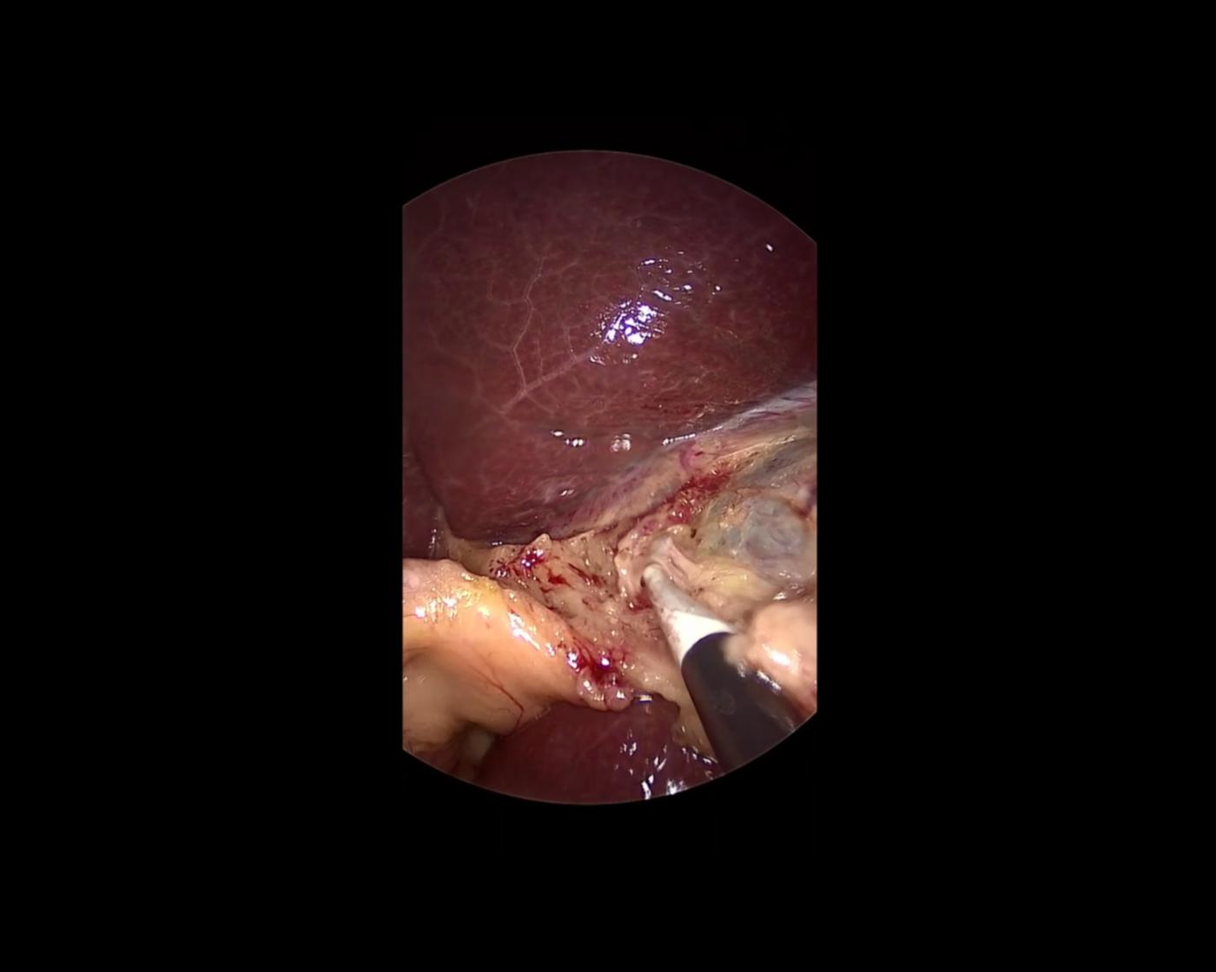Cautery: (600, 537, 811, 775)
Gallbladder: (605, 433, 815, 761)
Liver: (401, 152, 816, 545), (465, 684, 724, 813)
